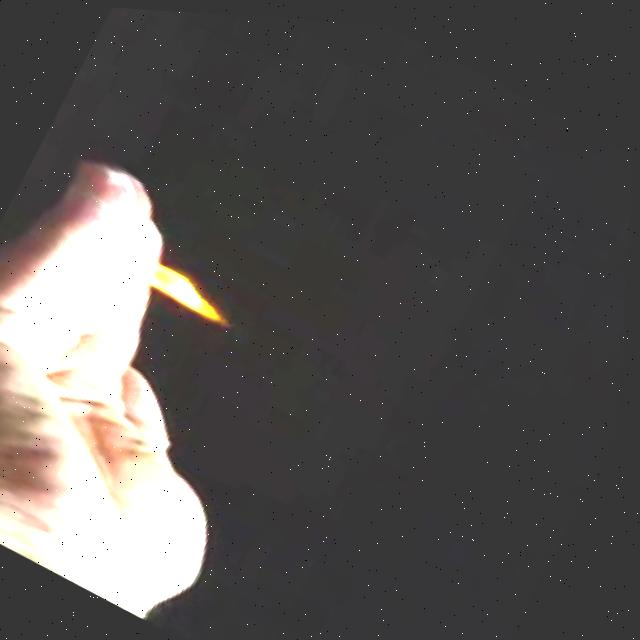Fire: (93, 230, 257, 343)
